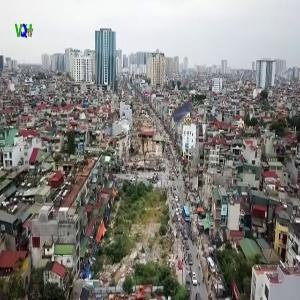drone: (151, 82, 224, 155)
